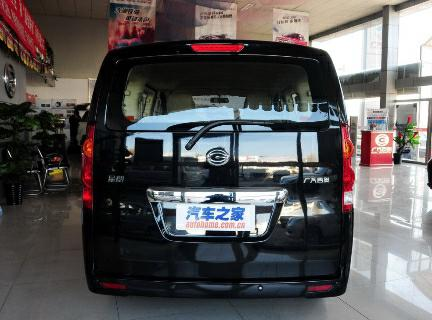广汽吉奥-星朗: (78, 32, 362, 306)
